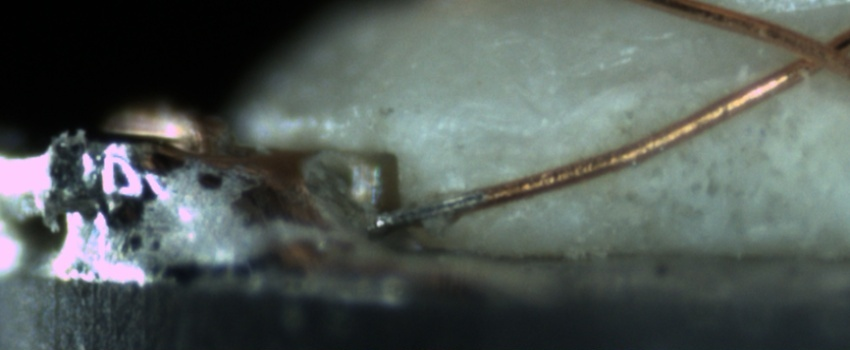CL: (765, 17, 848, 84)
TE: (97, 99, 247, 161)
TS: (365, 191, 483, 232)
